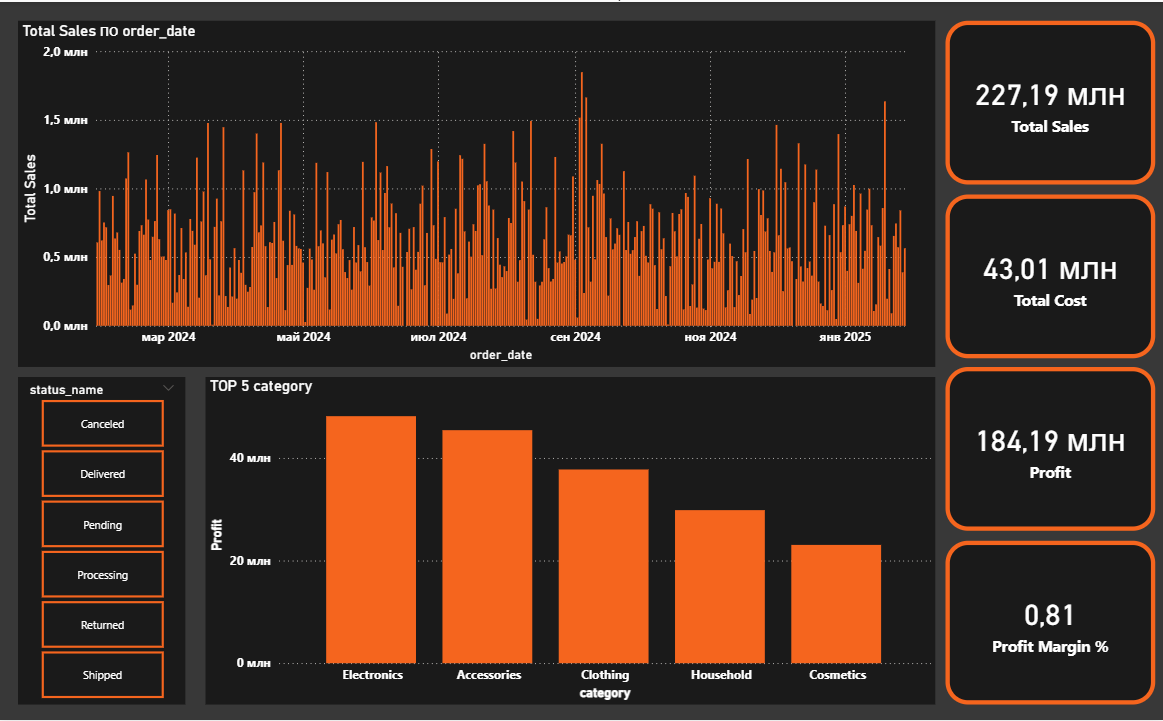

What the dashboard file says about the page in this screenshot:
{"tool":"powerbi","page":{"name":"Продажи и прибыль","canvas":[1300,800],"ordinal":0},"visuals":[{"type":"columnChart","fields":{"Y":["Меры.Total Sales"],"Category":["Student public_orders.order_date"]},"box":[22.3,20.9,1021.8,385.6],"z":0},{"type":"columnChart","title":"TOP 5 category","fields":{"Category":["Student nomenclature_reference.category"],"Y":["Меры.Profit"]},"box":[231.1,417.6,813,364.7],"z":1000},{"type":"slicer","fields":{"Values":["Student public_order_status.status_name"]},"box":[22.3,417.6,186.6,364.7],"z":2000},{"type":"card","fields":{"Values":["Меры.Total Sales"]},"box":[1055.3,20.9,233.9,182.4],"z":3000},{"type":"card","fields":{"Values":["Меры.Total Cost"]},"box":[1055.3,214.4,233.9,182.4],"z":4000},{"type":"card","fields":{"Values":["Меры.Profit"]},"box":[1055.3,406.5,233.9,182.4],"z":5000},{"type":"card","fields":{"Values":["Меры.Profit Margin %"]},"box":[1055.3,600,233.9,182.4],"z":6000}]}

Visuals, with their boxes in screenshot pixels (x1, y1, x2, y2), scaled from the page's 1300x800 canvas onto the 1163x721 screenshot:
columnChart - Меры.Total Sales x Student public_orders.order_date: 20:19:934:366
"TOP 5 category" columnChart: 207:376:934:705
slicer - Student public_order_status.status_name: 20:376:187:705
card - Меры.Total Sales: 944:19:1153:183
card - Меры.Total Cost: 944:193:1153:358
card - Меры.Profit: 944:366:1153:531
card - Меры.Profit Margin %: 944:541:1153:705
